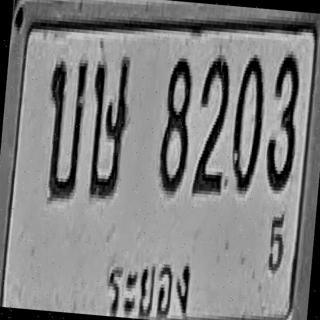A26: (40, 57, 88, 203)
A39: (84, 52, 133, 202)
N00: (228, 52, 268, 194)
N02: (191, 52, 233, 197)
N03: (264, 50, 302, 192)
N08: (157, 54, 195, 195)
P53: (96, 245, 196, 320)
